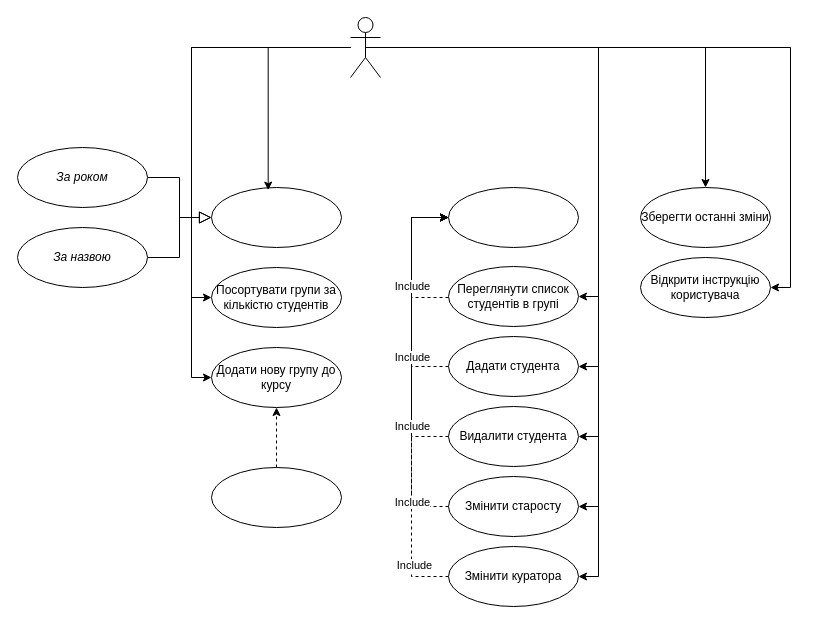
Some shapes in this 816 by 624 pixel diagram are drawn without their labels. The shapes that lost their labels are listed below. From the top down, each one's centre as x and y in pixels, then its label:
At pixel 365 47: "Користувач".
At pixel 276 217: "Переглянути групи в курсі".
At pixel 513 217: "Обрати групу".
At pixel 276 497: "Зчитати список студентів з файлу".
